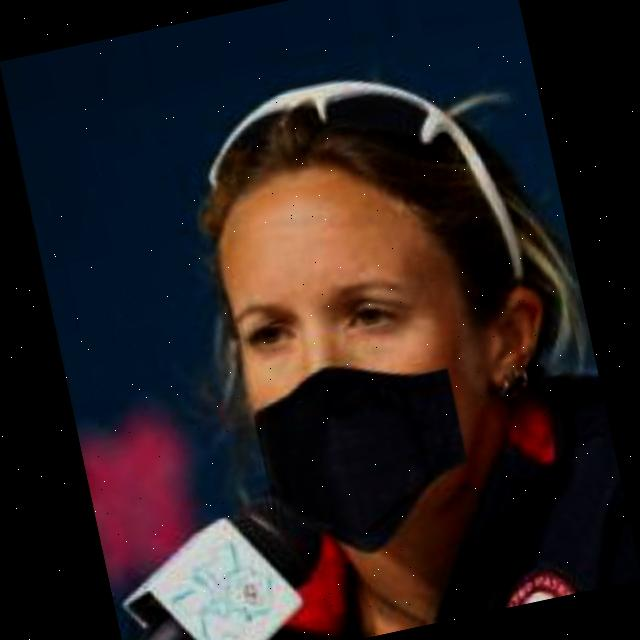suspicion: (185, 115, 536, 568)
